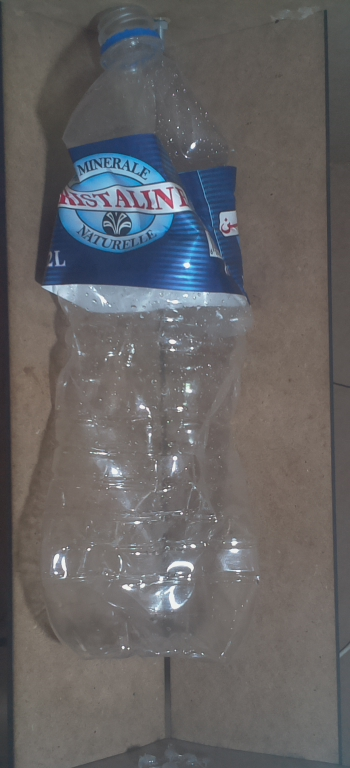Bouteille_2L: (34, 5, 271, 670)
